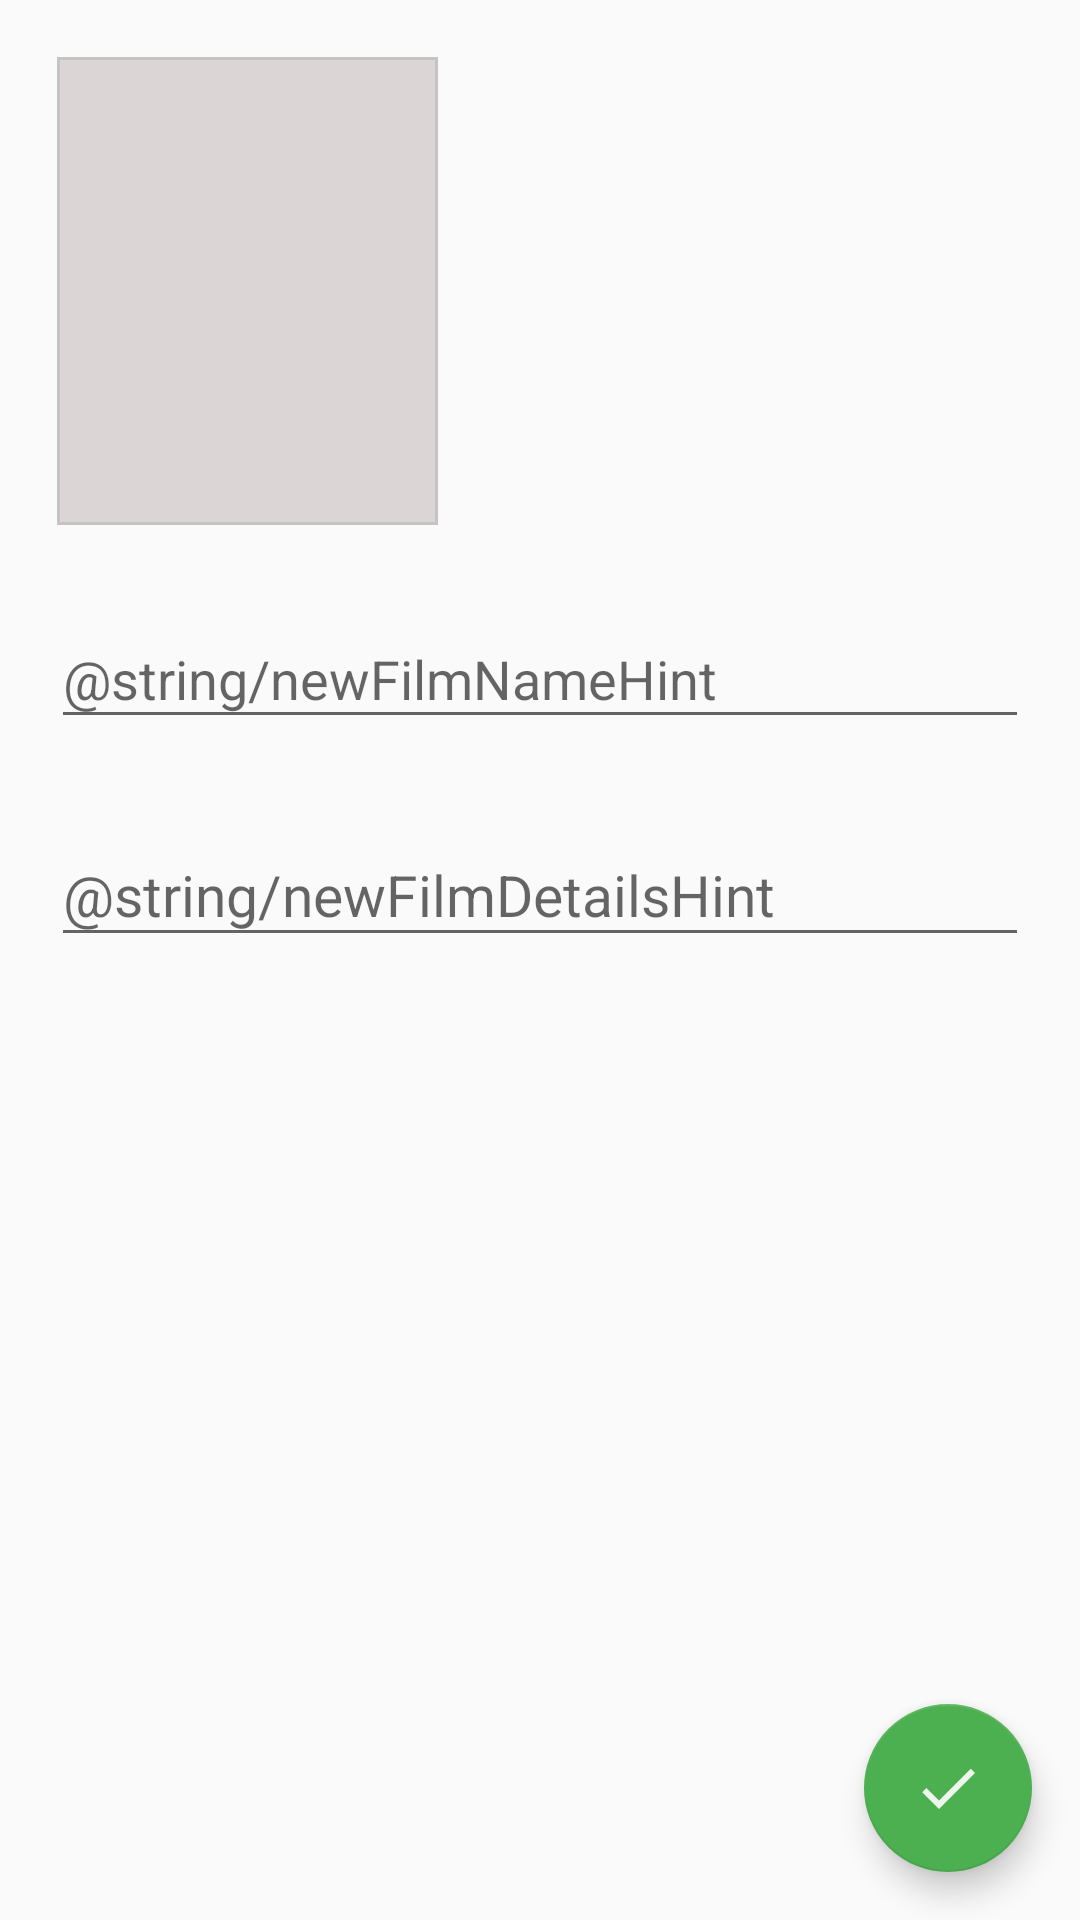

Screen size 1080*1920. Icon name, then its center in pixels as point (x, y):
done: point (948, 1788)
